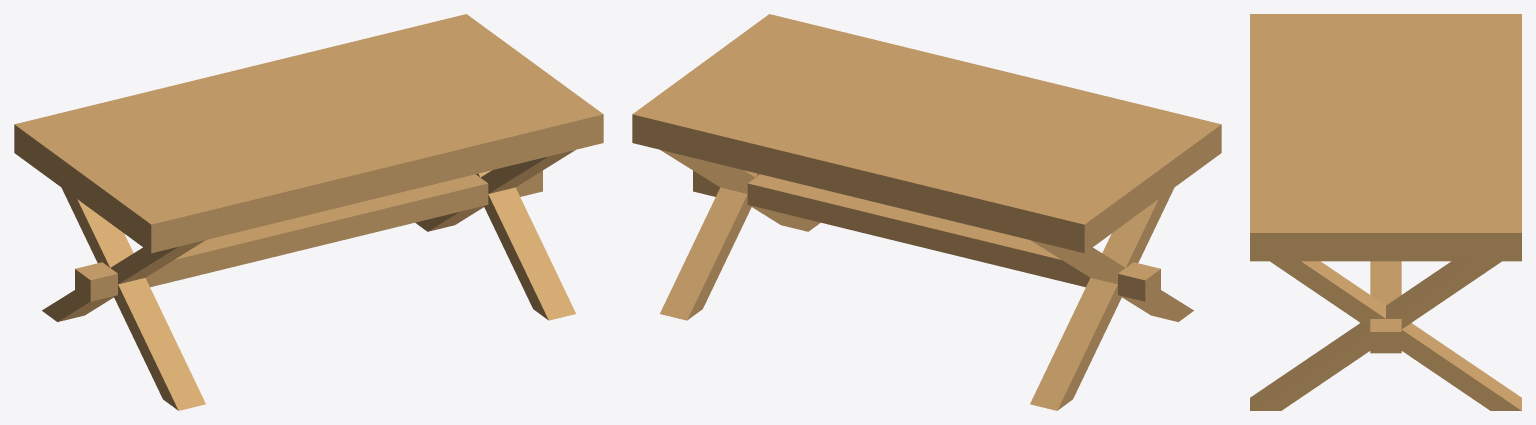
Rendered from tableCross.glb.
The picture shows the model from 3 angles, left to right: view 1: azimuth 30°, elevation 25°; view 2: azimuth 150°, elevation 25°; view 3: azimuth 270°, elevation 25°; orthographic projection.
Bounding box in the file's own units: 8.52 × 3.47 × 4.47.
